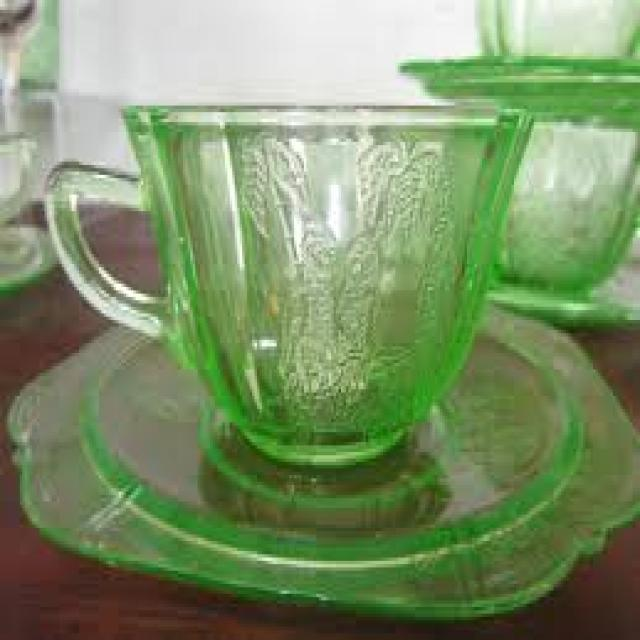glass: (3, 297, 638, 620), (42, 103, 531, 469), (398, 53, 637, 290), (0, 0, 54, 283), (403, 56, 637, 106), (467, 0, 637, 59), (502, 264, 638, 320)
